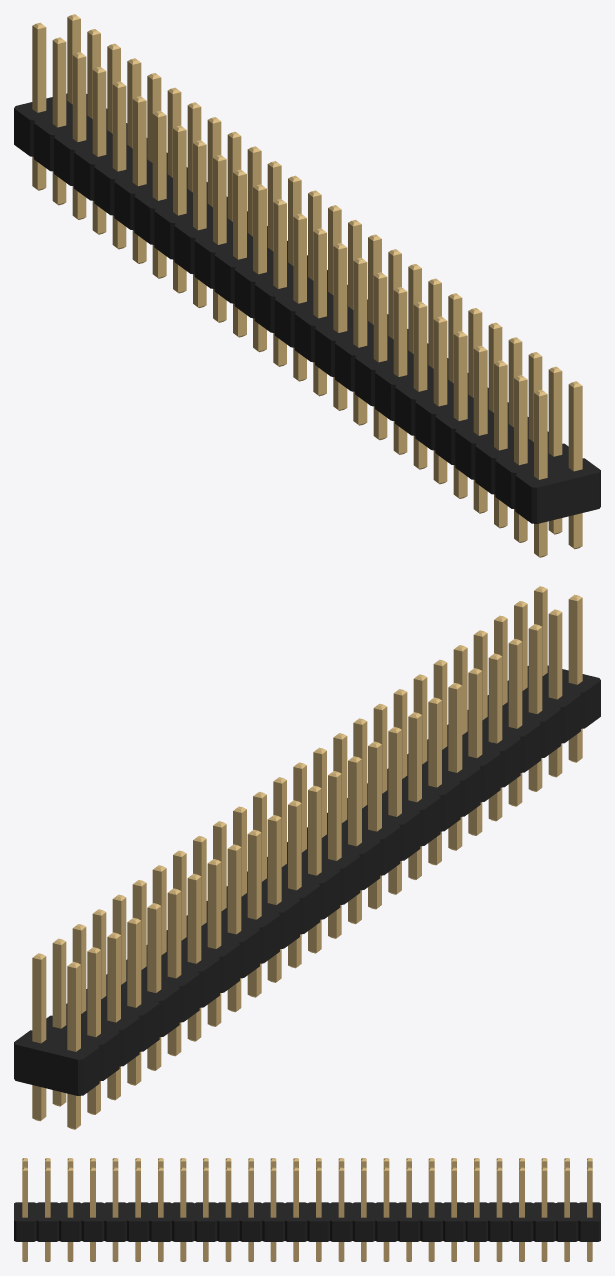
Rendered from kc-pinheader_2x26_p2.54mm_vertical.glb.
3 views of the same model, one above another, from view 1: azimuth 30°, elevation 25°; view 2: azimuth 150°, elevation 25°; view 3: azimuth 270°, elevation 25° (orthographic). The views are drawn at different scales.
Visible parts, largest first — view 1: 0.75_0.5_0.25_0.9, 0_0_0_0; view 2: 0.75_0.5_0.25_0.9, 0_0_0_0; view 3: 0_0_0_0, 0.75_0.5_0.25_0.9.
Boxes of the visible parts, x1,y1,x2,y2 form: 0.75_0.5_0.25_0.9: (32,14,582,557); 0_0_0_0: (14,93,600,523); 0.75_0.5_0.25_0.9: (32,586,582,1129); 0_0_0_0: (14,665,600,1095); 0_0_0_0: (14,1202,600,1241); 0.75_0.5_0.25_0.9: (22,1158,592,1261).
Bounding box in the file's own units: 0.5079 × 1.15 × 6.6.
